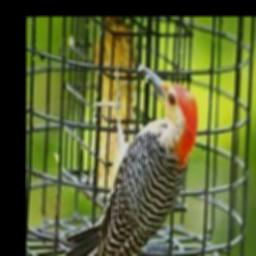Woodpecker: (62, 62, 198, 256)
